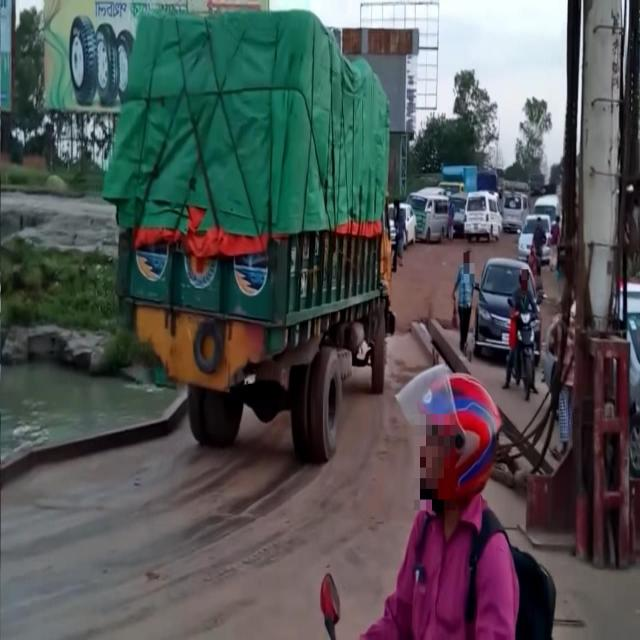car: (469, 250, 520, 370), (514, 210, 552, 258), (390, 201, 417, 244)
microbus: (464, 188, 507, 241), (416, 192, 454, 233), (506, 188, 527, 224)
motorbike: (506, 293, 542, 403)
truck: (115, 0, 393, 463)
